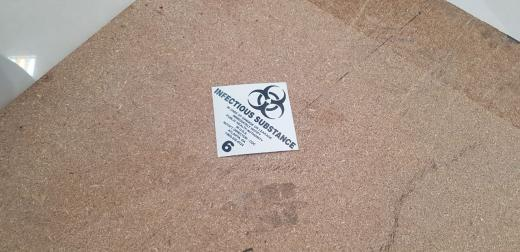infectious-substance: (209, 81, 299, 159)
